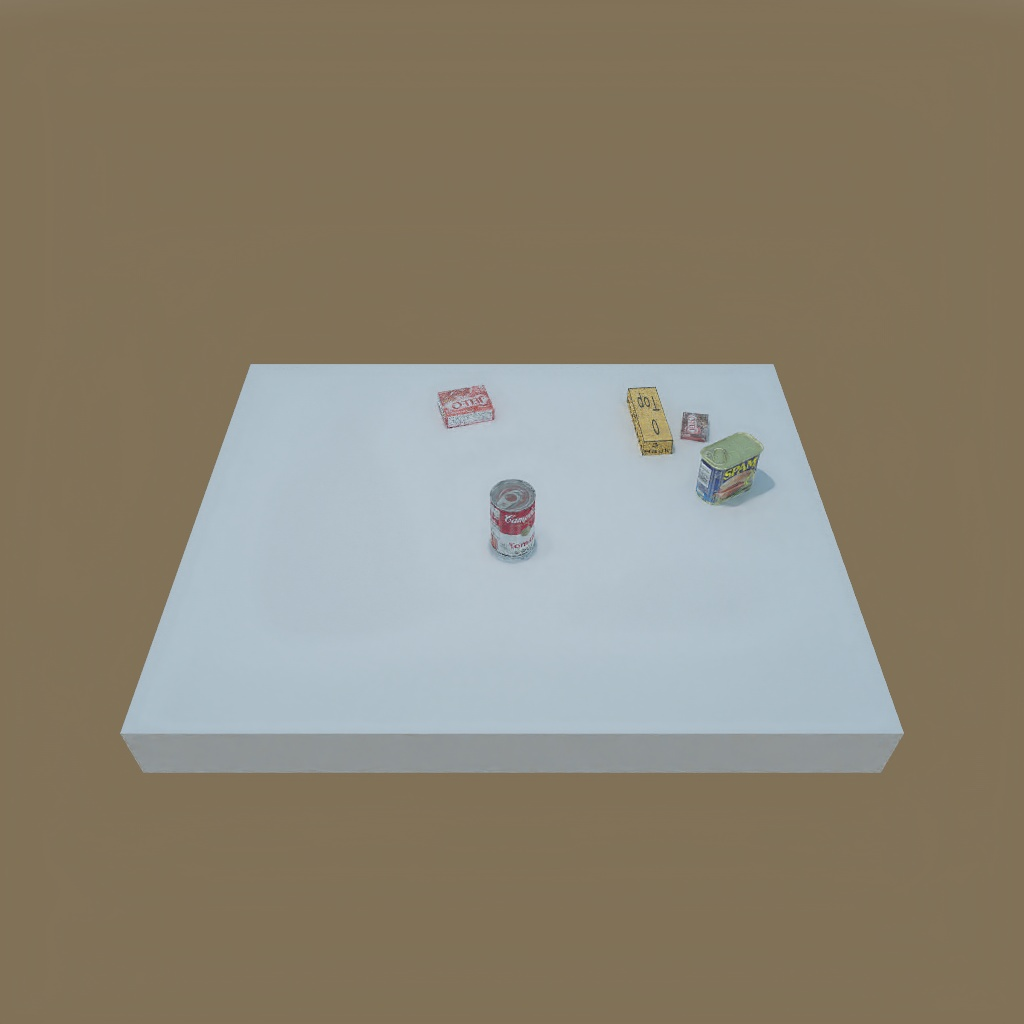gelatin_box: (433, 383, 499, 427)
jenga: (624, 384, 677, 459)
potted_meat_can: (698, 434, 762, 501)
pudding_box: (680, 410, 712, 446)
tomato_soup_can: (484, 474, 539, 557)
